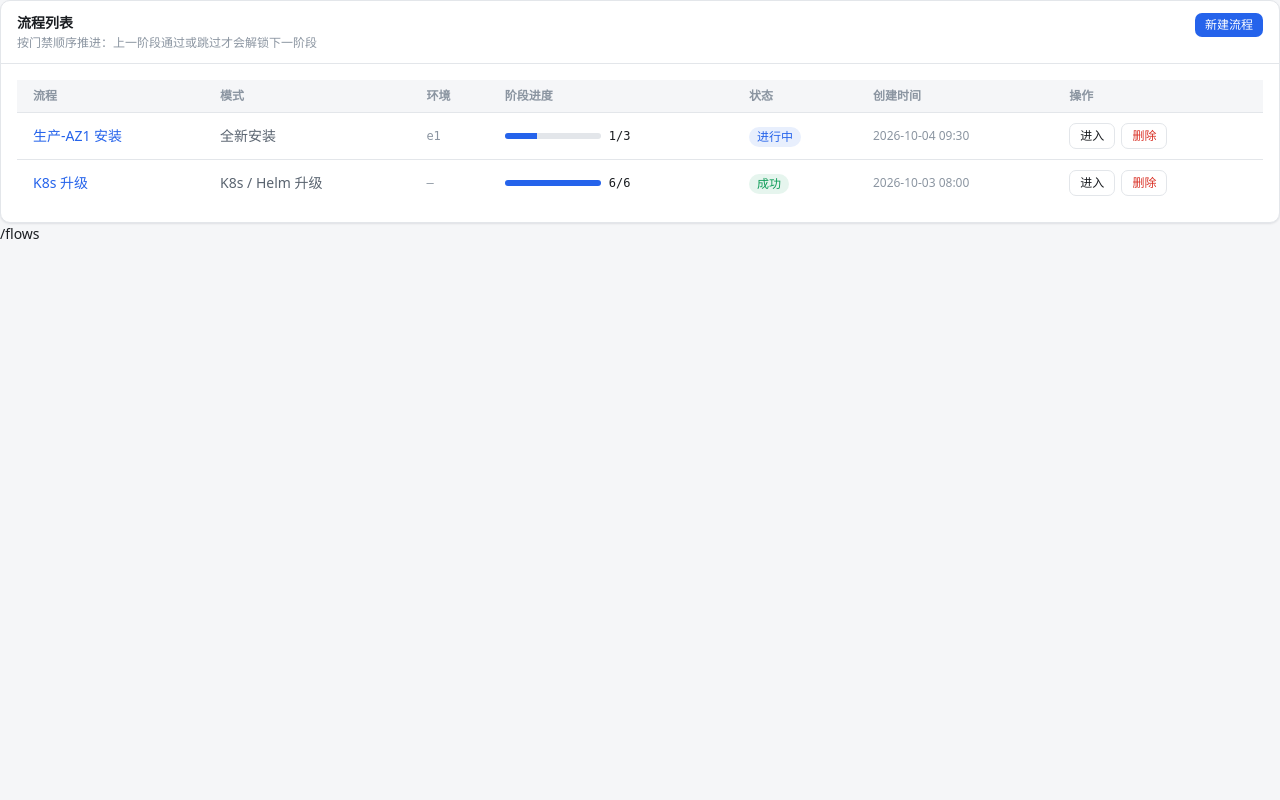
Flows 列表页 › 删除失败：toast 后端消息，对话框收起，列表未被清空
Expected: the link "生产-AZ1 安装" is shown, [33,126,122,145]
Click the button "删除" in the row of "生产-AZ1 安装": [1144, 136] box [1121,123,1167,149]
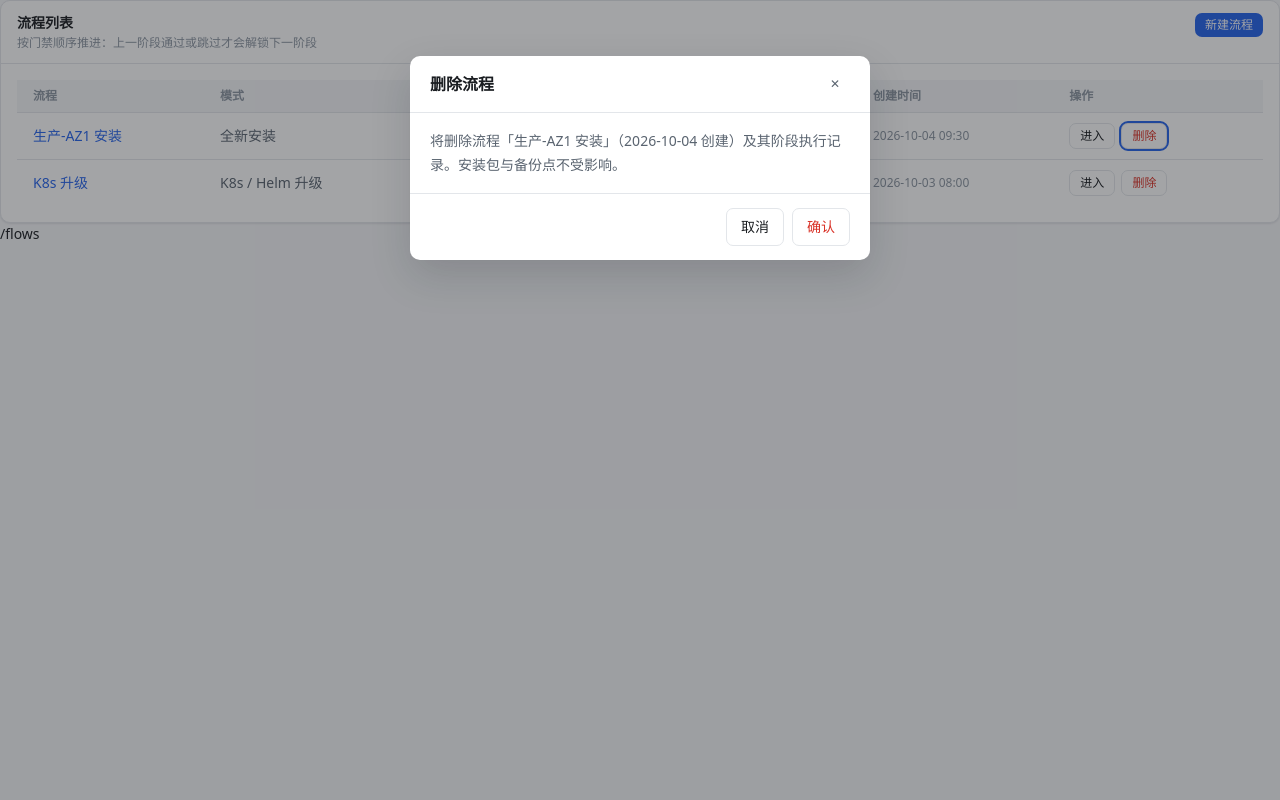
Click the button "确认": [821, 227] box [792,208,850,246]
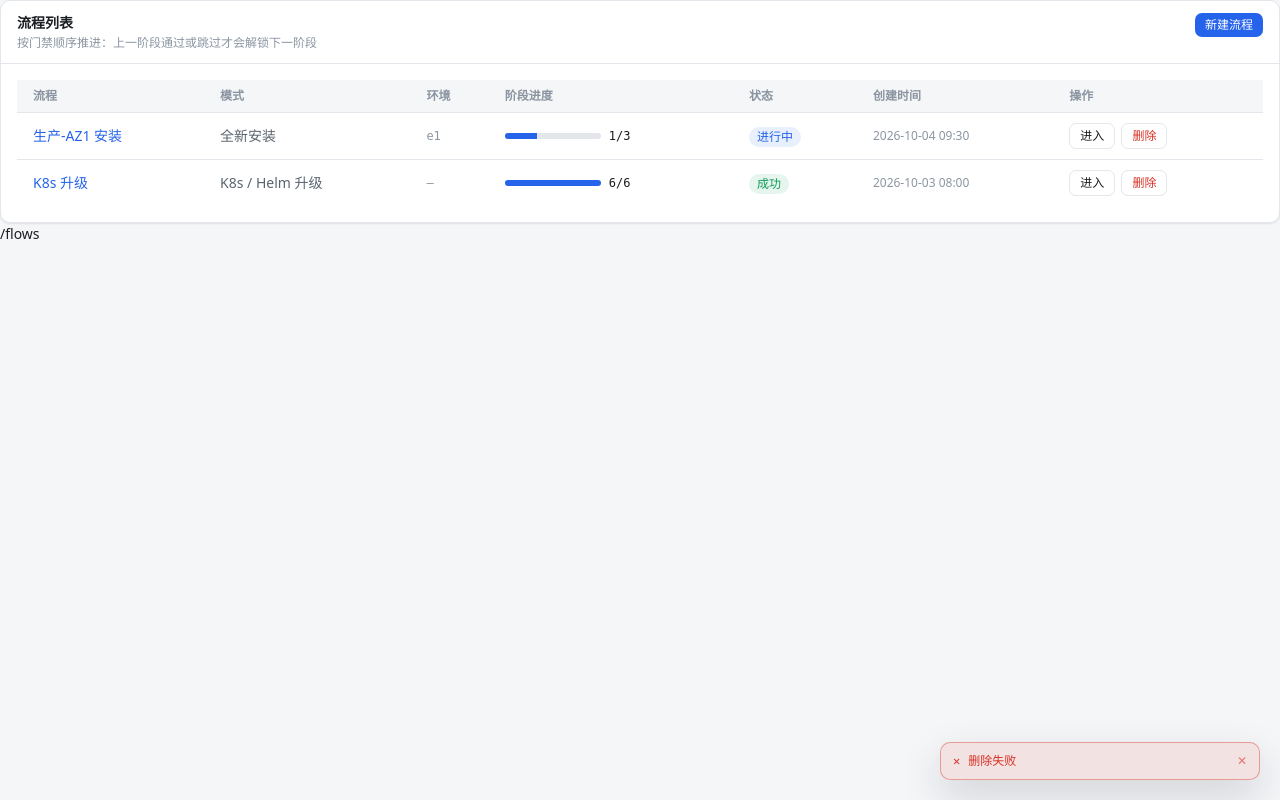
Expected: the link "生产-AZ1 安装" is shown, [33,126,122,145]
Expected: the text "删除失败" is shown, [968,752,1016,769]
Expected: the dialog is gone
